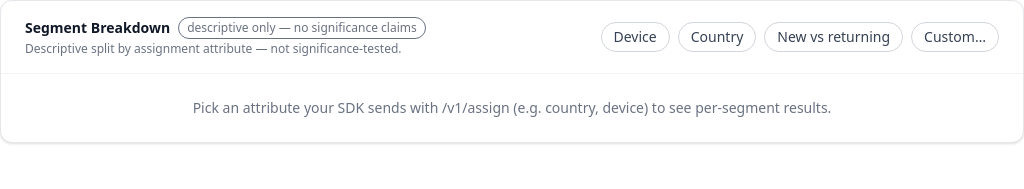
it: SegmentBreakdownCard — cohort chips › keeps a typed custom attribute intact after a cohort chip click, so reopening Custom… shows it unchanged
The width and height of the screenshot is (1024, 189).
Click the button "Custom…" at x=955, y=37, box [911,22,999,52]
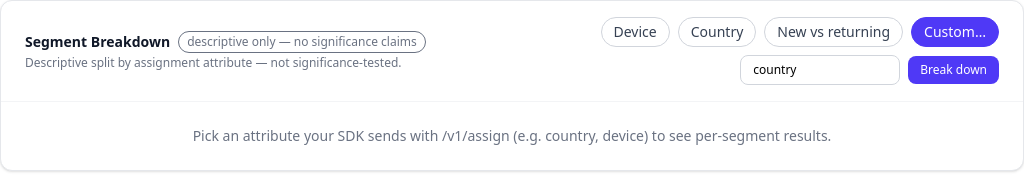
Replace the text in the field with placeholder "attribute (e.g. country)" with "plan_tier" at x=820, y=70, box [740,55,900,85]
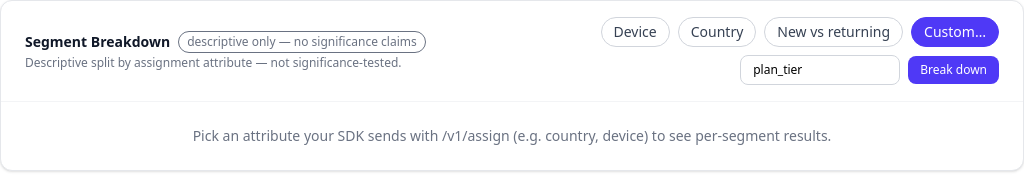
Click the button "Break down" at x=954, y=70, box [908,56,999,84]
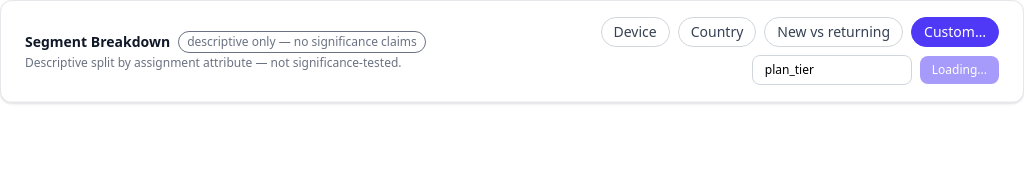
Click the button "Country" at x=717, y=32, box [678,17,756,47]
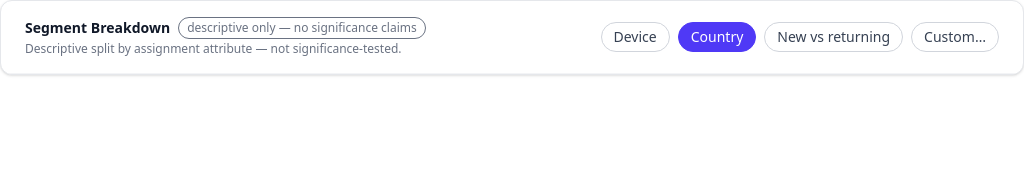
Click the button "Custom…" at x=955, y=37, box [911,22,999,52]
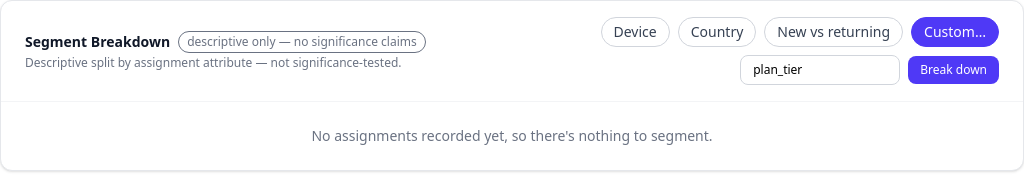
Now the field with placeholder "attribute (e.g. country)" holds "plan_tier", box [740,55,900,85]
